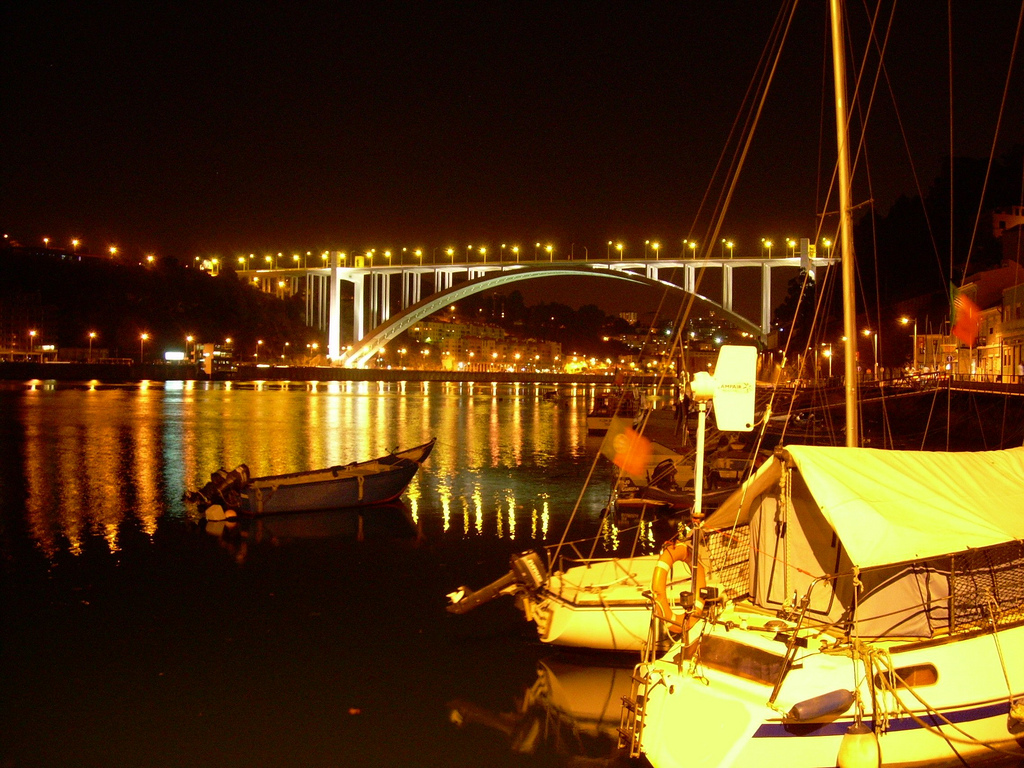arrabida: (221, 247, 844, 369)
